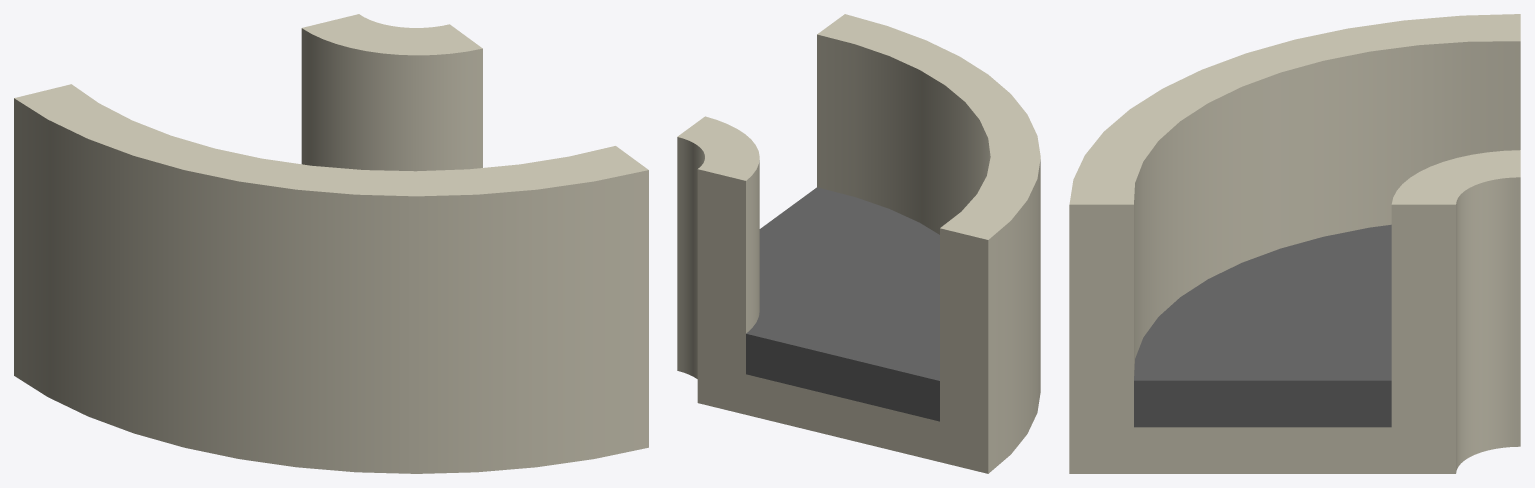
Rendered from roadTile_256.obj.
The picture shows the model from 3 angles, left to right: view 1: azimuth 30°, elevation 25°; view 2: azimuth 150°, elevation 25°; view 3: azimuth 270°, elevation 25°; orthographic projection. The views are drawn at different scales.
Parts seen in each view (by area): view 1: roadTile_256; view 2: roadTile_256; view 3: roadTile_256.
Part boxes in pixels (x1,y1,x2,y2): roadTile_256: (14, 14, 648, 473); roadTile_256: (677, 14, 1040, 473); roadTile_256: (1069, 14, 1520, 473).
Size of the model in its own units: 2.62 by 1.73 by 2.62.
